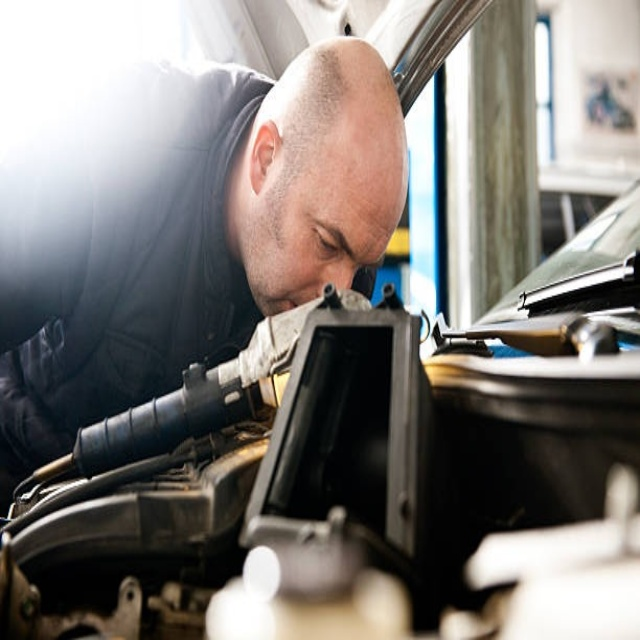Sin_gafas: (303, 203, 372, 277)
Sin_mascara: (252, 259, 304, 321)
